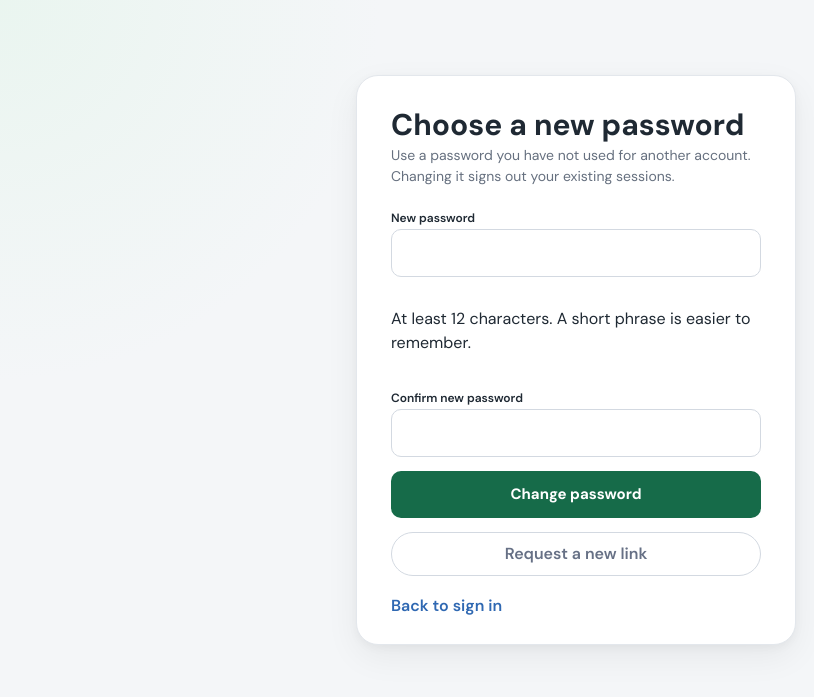
Test: password recovery › offers a new link when confirmation expires
Type "replacement-password" into the password field labelled "New password" at (576, 253), box [391,229,761,277]
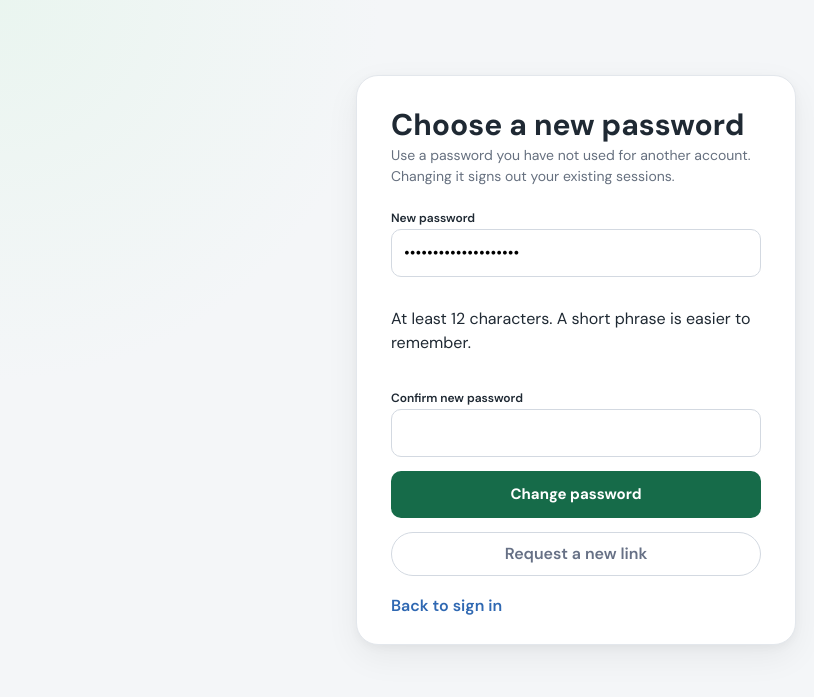
Type "replacement-password" into the password field labelled "Confirm new password" at (576, 433), box [391,409,761,457]
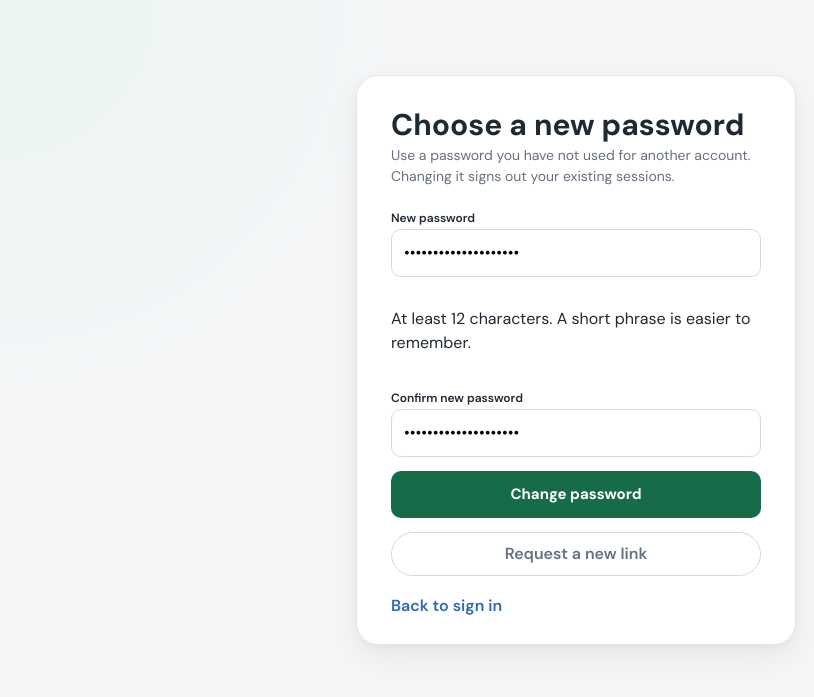
Click the button "Change password" at (576, 495), box [391,471,761,518]
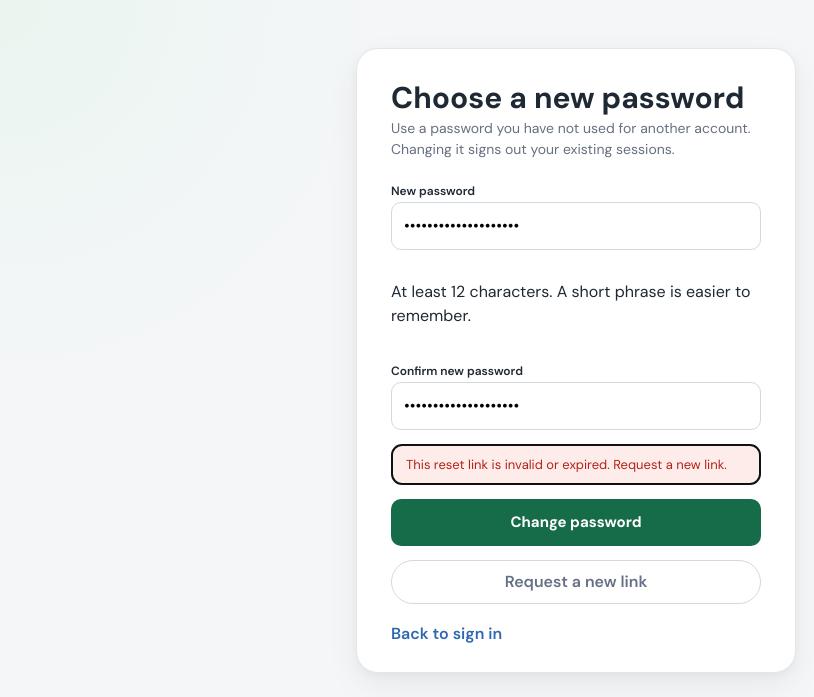
Result: the message shows "invalid or expired" at [406,456,727,472]
Click the button "Request a new link" at (576, 582), box [391,560,761,604]
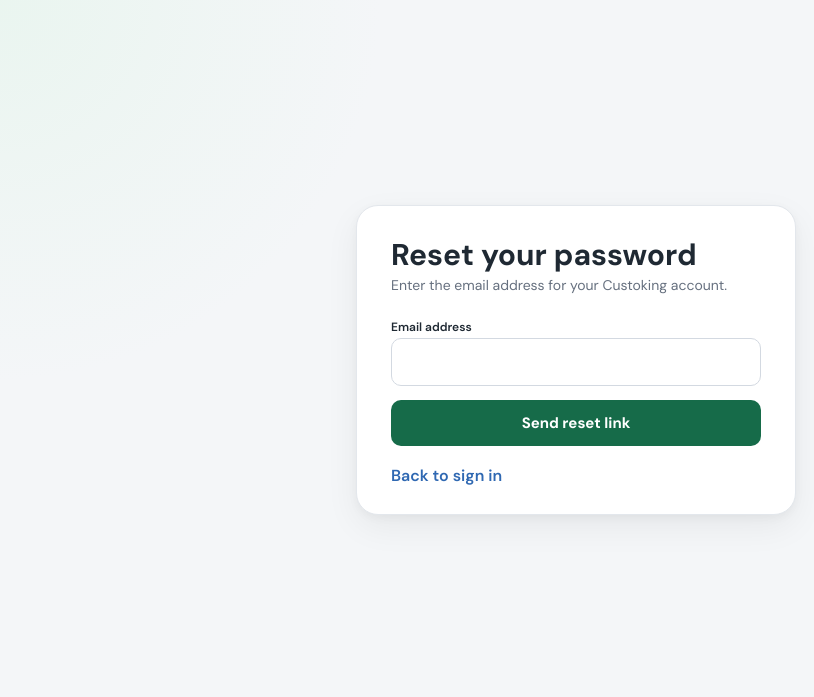
Result: the field labelled "Email address" is shown at [391,338,761,386]
